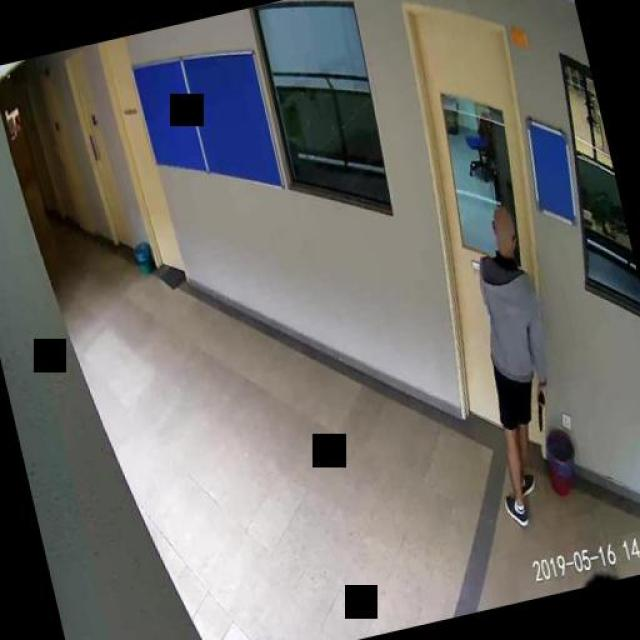gun: (528, 382, 552, 432)
